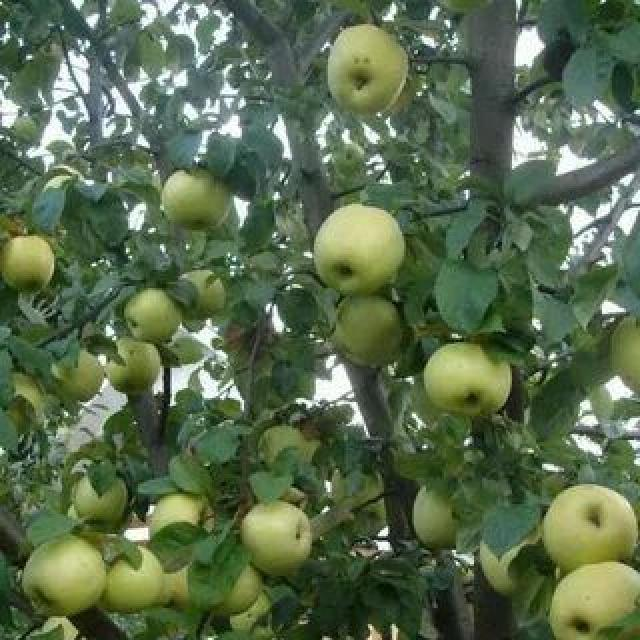Fresh Apple: (536, 486, 640, 568), (306, 208, 406, 287), (420, 346, 517, 416), (23, 542, 97, 610), (245, 508, 313, 575)
